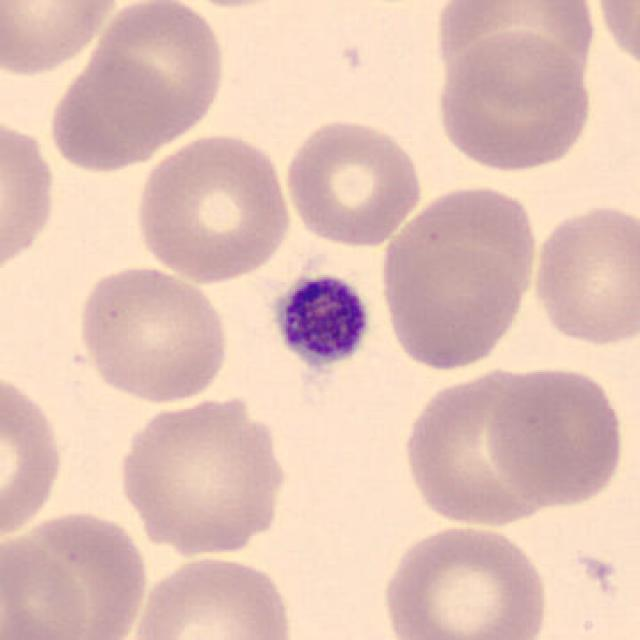Platelets: (269, 270, 375, 376)
RBC: (375, 178, 541, 374), (112, 390, 292, 559), (397, 362, 566, 532), (130, 130, 295, 286), (432, 28, 597, 176), (73, 261, 233, 405), (482, 362, 629, 509), (377, 520, 553, 640), (85, 0, 229, 146), (281, 112, 427, 248), (45, 49, 186, 174), (434, 2, 601, 106), (528, 199, 638, 351), (124, 552, 300, 640), (0, 367, 68, 545), (0, 529, 94, 640), (0, 111, 59, 282), (0, 0, 124, 79), (590, 0, 640, 81), (158, 0, 302, 12)
